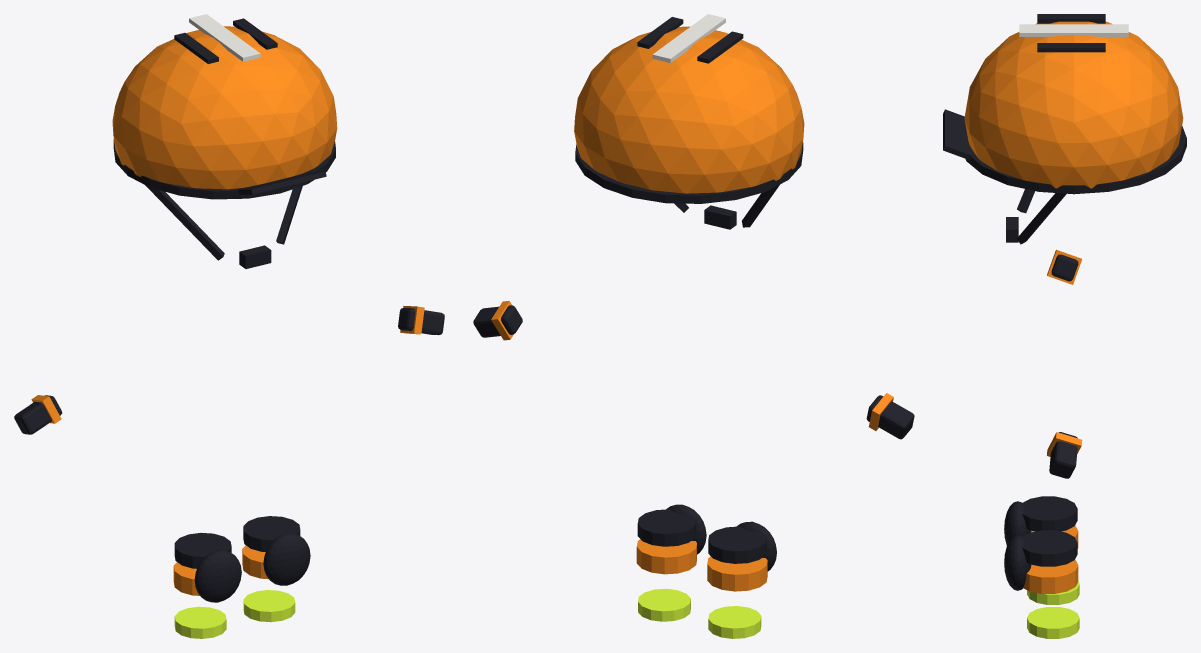
File: Outfit_Parkour.fbx
The picture shows the model from 3 angles, left to right: view 1: azimuth 30°, elevation 25°; view 2: azimuth 150°, elevation 25°; view 3: azimuth 270°, elevation 25°; orthographic projection. The views are drawn at different scales.
Visible parts, largest first — view 1: Helmet__Head, KneePadR__shin.R, KneePadL__shin.L, ReflectorR__shin.R, ReflectorL__shin.L, GloveR__hand.R, GloveL__hand.L; view 2: Helmet__Head, KneePadL__shin.L, KneePadR__shin.R, ReflectorR__shin.R, ReflectorL__shin.L, GloveR__hand.R, GloveL__hand.L; view 3: Helmet__Head, KneePadL__shin.L, KneePadR__shin.R, ReflectorL__shin.L, GloveL__hand.L, GloveR__hand.R, ReflectorR__shin.R.
Boxes of the visible parts, box(x1,y1,x2,y2) form: Helmet__Head: box(112, 14, 337, 268); KneePadR__shin.R: box(173, 532, 241, 602); KneePadL__shin.L: box(242, 516, 310, 585); ReflectorR__shin.R: box(174, 606, 226, 638); ReflectorL__shin.L: box(243, 590, 295, 622); GloveR__hand.R: box(14, 395, 62, 434); GloveL__hand.L: box(398, 305, 444, 335); Helmet__Head: box(574, 14, 804, 229); KneePadL__shin.L: box(636, 504, 706, 574); KneePadR__shin.R: box(707, 521, 776, 591); ReflectorR__shin.R: box(708, 606, 761, 638); ReflectorL__shin.L: box(638, 588, 690, 621); GloveR__hand.R: box(866, 393, 914, 439); GloveL__hand.L: box(473, 301, 522, 340); Helmet__Head: box(943, 14, 1186, 244); KneePadL__shin.L: box(1004, 530, 1078, 593); KneePadR__shin.R: box(1004, 496, 1078, 548); ReflectorL__shin.L: box(1027, 607, 1079, 638); GloveL__hand.L: box(1047, 432, 1082, 478); GloveR__hand.R: box(1047, 249, 1081, 284); ReflectorR__shin.R: box(1027, 581, 1079, 604).
Size of the model in its own units: 1.08 by 1.41 by 0.535.
